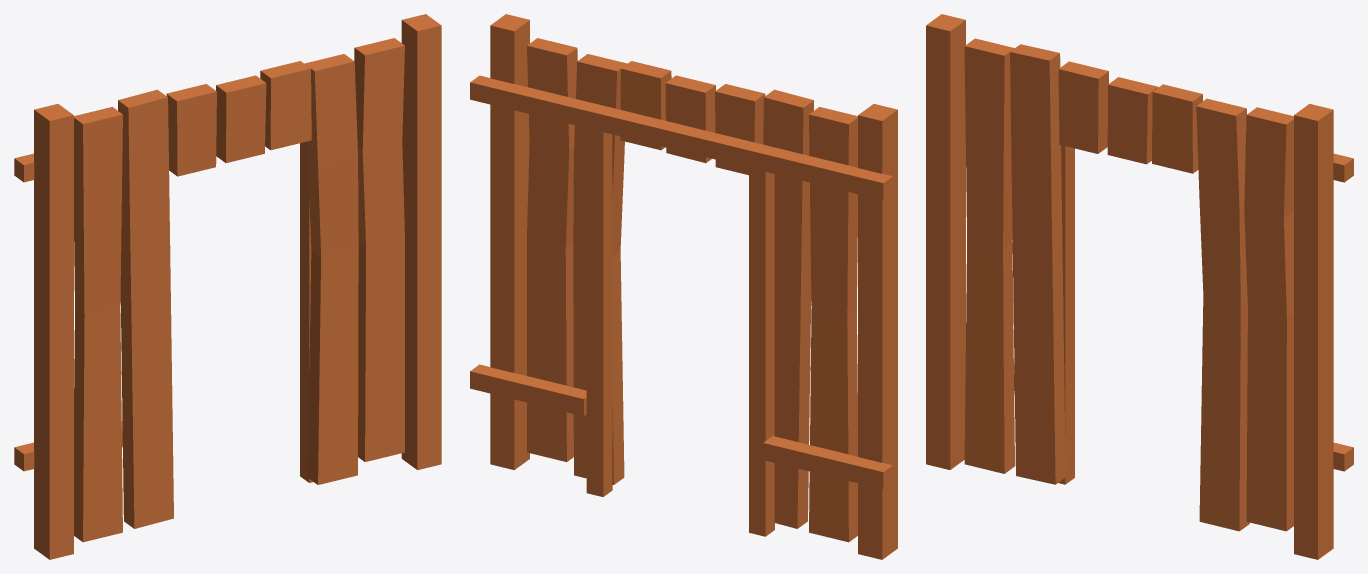
Rendered from wood-doorway-1.glb.
3 views of the same model, side by side, from view 1: azimuth 30°, elevation 25°; view 2: azimuth 150°, elevation 25°; view 3: azimuth 330°, elevation 25° (orthographic).
Visible parts, largest first — view 1: WoodDoor1; view 2: WoodDoor1; view 3: WoodDoor1.
Boxes of the visible parts, box(x1,y1,x2,y2) form: WoodDoor1: box(14, 14, 441, 559); WoodDoor1: box(470, 14, 897, 559); WoodDoor1: box(926, 14, 1353, 559).
Size of the model in its own units: 2 by 2.03 by 0.2086.
